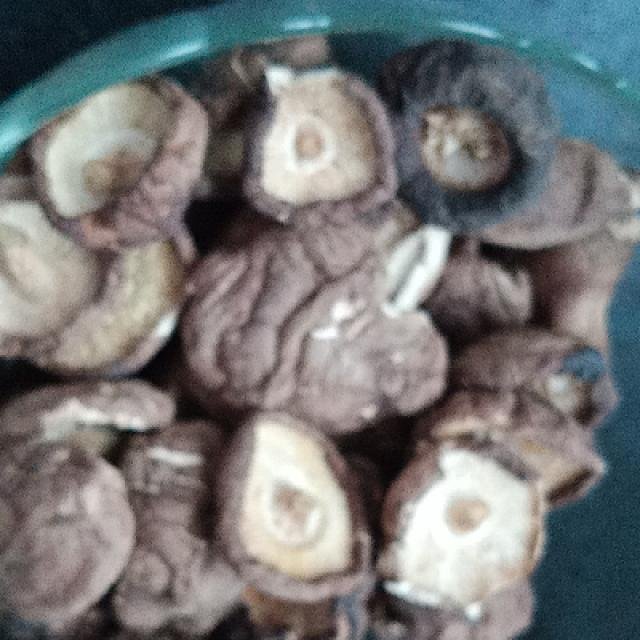Lentinus edodes: (216, 410, 376, 597), (0, 178, 160, 365), (396, 41, 558, 224), (380, 434, 546, 609), (34, 79, 203, 248), (0, 444, 134, 629), (243, 70, 399, 224)
